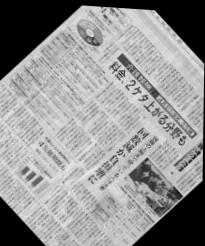paper: (0, 1, 204, 245)
